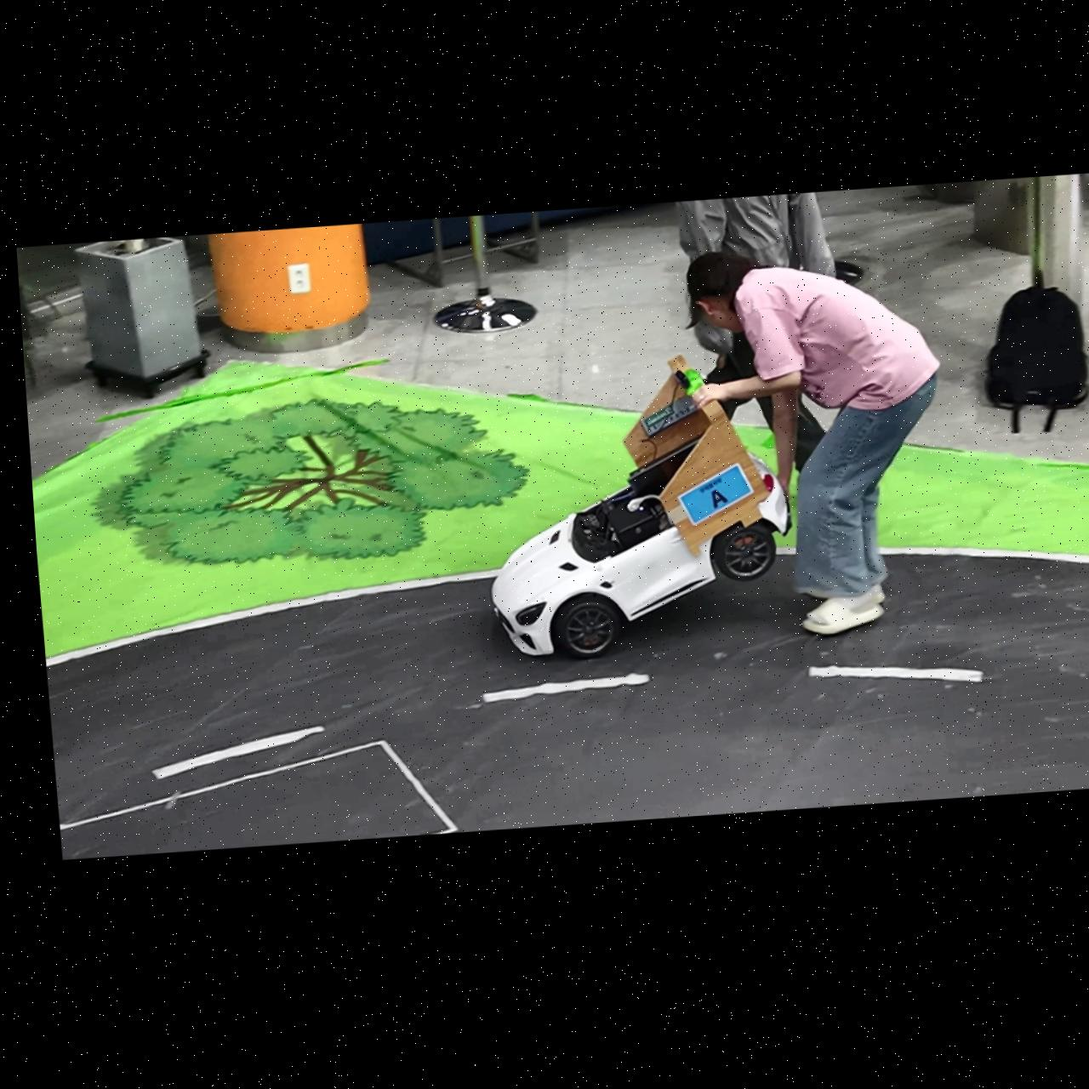broken_line: (153, 726, 323, 779), (482, 673, 650, 703), (809, 666, 983, 682)
